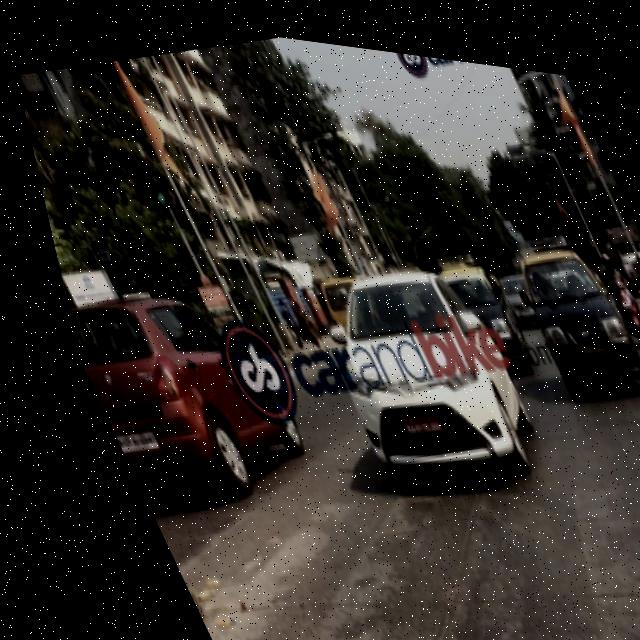license_plate: (371, 384, 434, 436)
